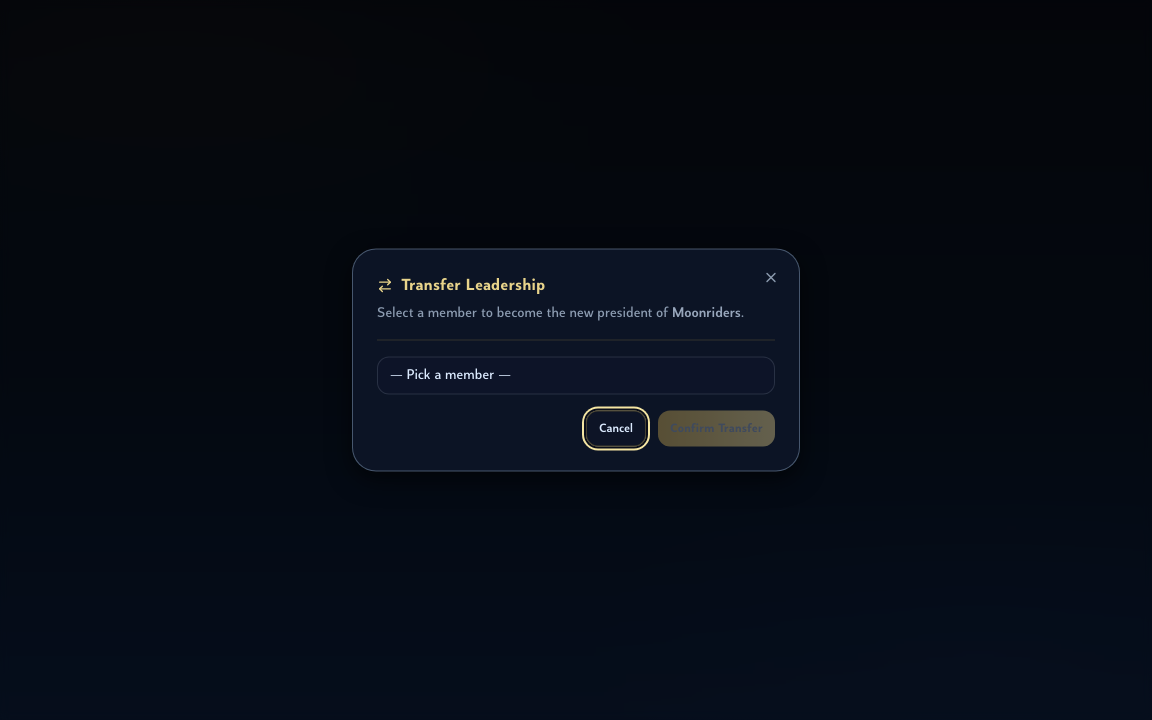
Test case: TransferLeadershipModal — failed transfer (Equoria-mr1kq) › shows mapped copy for a server fault
Select "Second (member)" in the dropdown with test id "transfer-member-select". click: (576, 376)
box: [377,356,775,394]
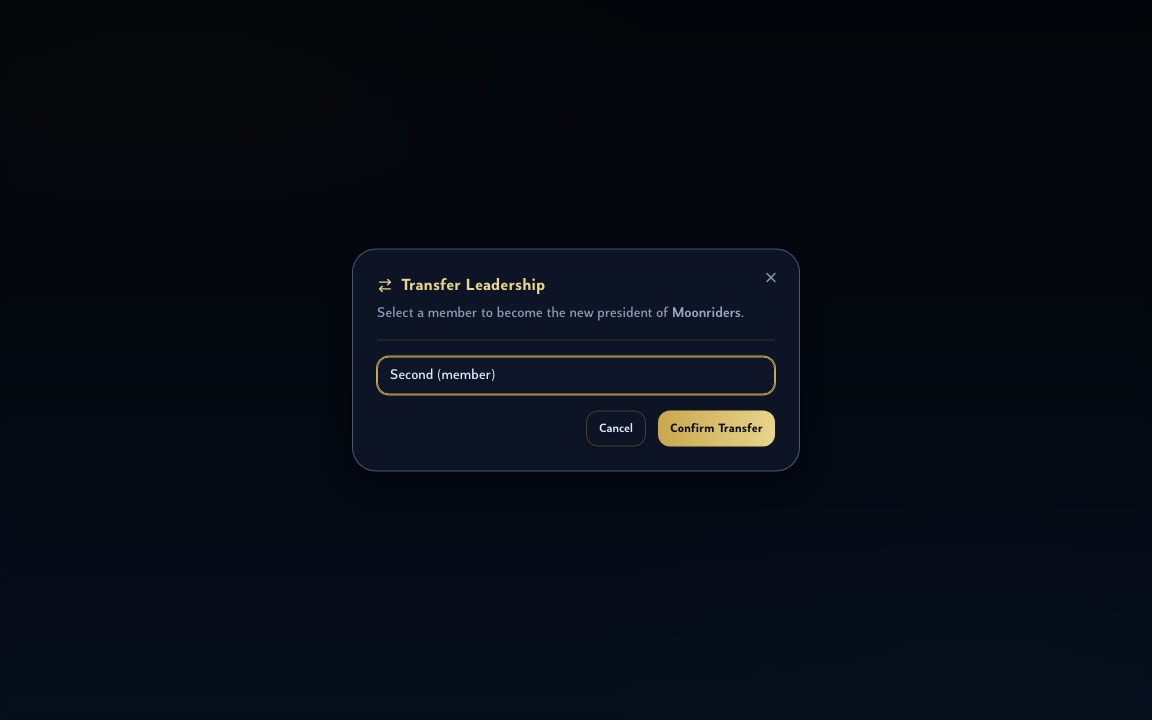
Click the button with test id "transfer-confirm-btn". click: (716, 428)
box: [658,410,775,446]
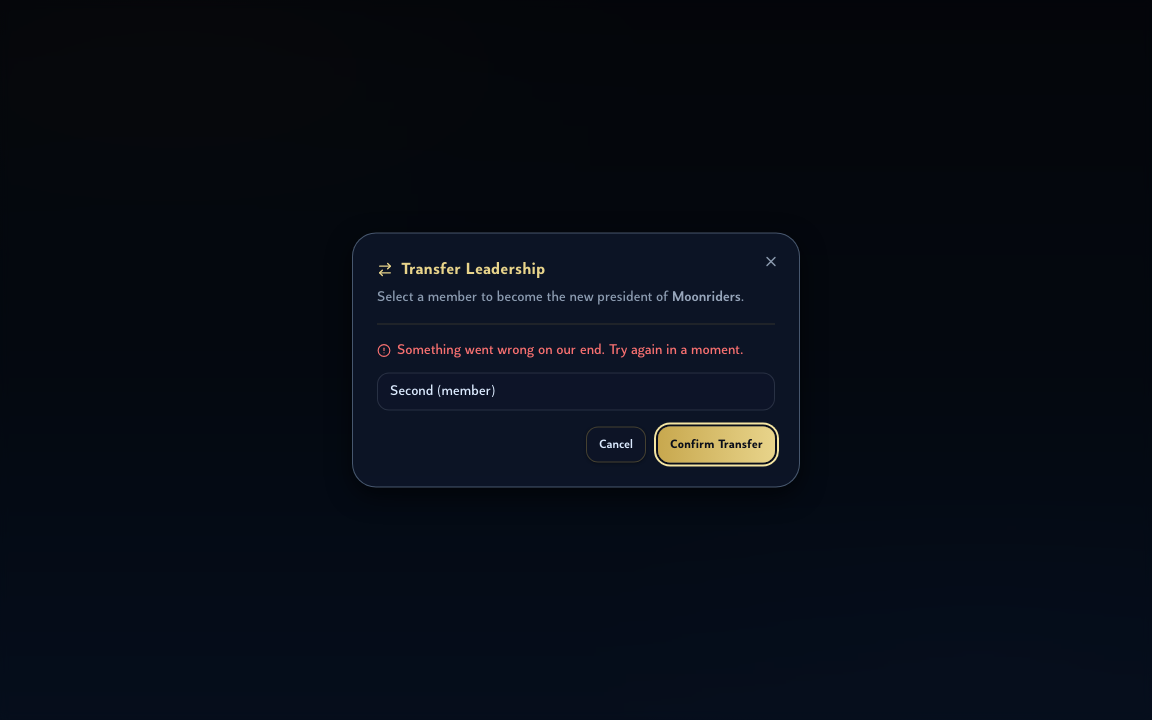
Now the text "Something went wrong on our end. Try again in a moment." is shown, box [397,340,743,360]
